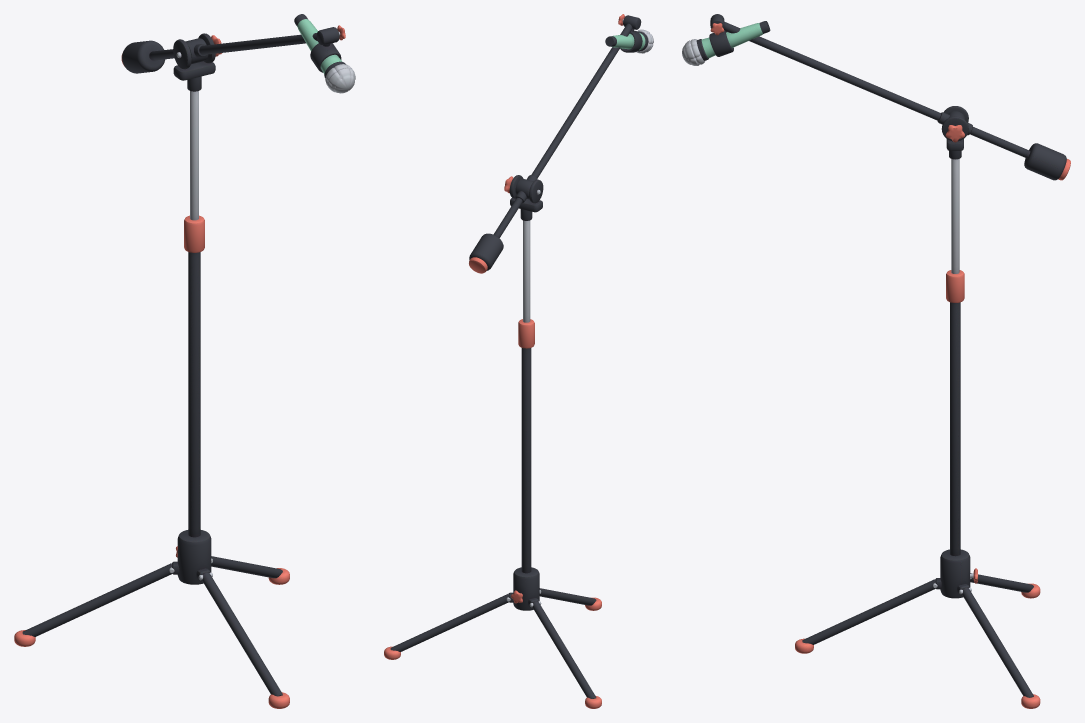
File: microphone-stand.glb
3 renders of one model, left to right at view 1: azimuth 30°, elevation 25°; view 2: azimuth 150°, elevation 25°; view 3: azimuth 270°, elevation 25°, orthographic. The views are drawn at different scales.
Parts seen in each view (by area): view 1: singing-tripod, singing-boom, singing-mic-pickup, singing-mic-handle; view 2: singing-tripod, singing-boom; view 3: singing-tripod, singing-boom, singing-mic-handle.
Boxes of the visible parts, x1,y1,x2,y2 form: singing-tripod: [14, 33, 289, 708]; singing-boom: [121, 14, 345, 73]; singing-mic-pickup: [325, 64, 355, 93]; singing-mic-handle: [297, 19, 342, 73]; singing-tripod: [384, 175, 601, 708]; singing-boom: [469, 14, 641, 273]; singing-tripod: [795, 106, 1040, 708]; singing-boom: [710, 14, 1070, 180]; singing-mic-handle: [701, 23, 763, 58].
Bounding box in the file's own units: 0.6416 × 1.6 × 0.889.
Materials: 2 (2 with a texture image).
